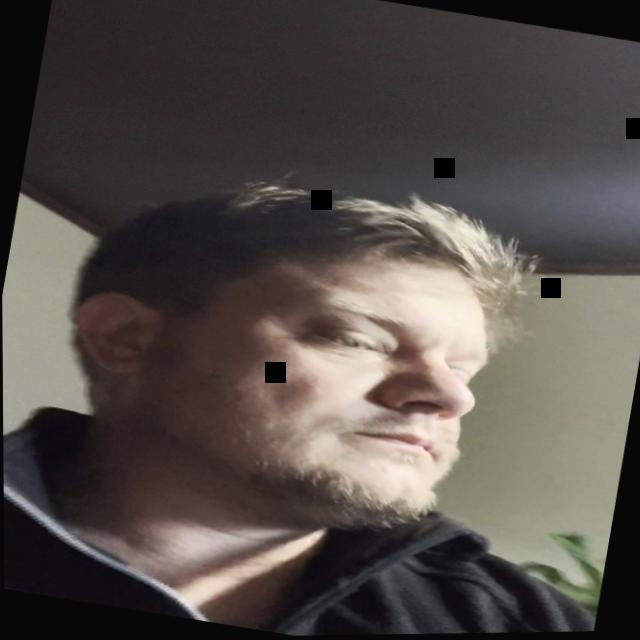NO-Mask: (55, 169, 507, 572)
